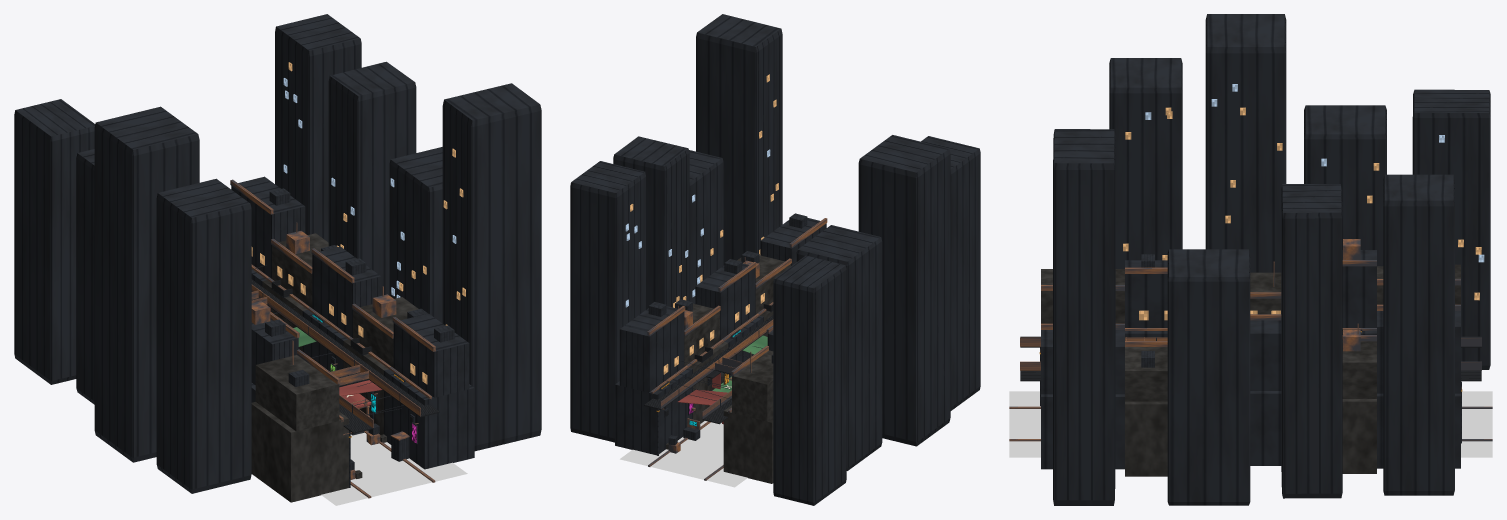
File: Hesperus_Market2_Street_gallery.glb
The picture shows the model from 3 angles, left to right: view 1: azimuth 30°, elevation 25°; view 2: azimuth 150°, elevation 25°; view 3: azimuth 270°, elevation 25°; orthographic projection. The views are drawn at different scales.
Visible parts, largest first — view 1: Tower_7, Tower_1, Tower_3, Tower_8, Tower_9, Tower_6, Tower_5, Fc-1_0_MassA, Fc1_1_MassA, Tower_2, Fc-1_0_MassB, Fc1_1_MassB (+10 smaller); view 2: Tower_3, Tower_8, Tower_7, Tower_6, Tower_2, Tower_1, Tower_9, Fc1_5_MassB, Tower_5, Fc1_5_MassA, Fc-1_4_MassA, Fc1_3_MassB (+10 smaller); view 3: Tower_7, Tower_6, Tower_5, Tower_3, Tower_9, Tower_1, Tower_8, Tower_2, GAL_Paver_Floor, Fc1_2_MassA, Fc1_4_MassA, Fc-1_1_MassB (+12 smaller).
Part boxes in pixels (x1=…): Tower_7: x1=442, y1=83, x2=541, y2=451; Tower_1: x1=156, y1=178, x2=251, y2=493; Tower_3: x1=94, y1=106, x2=199, y2=462; Tower_8: x1=14, y1=99, x2=95, y2=384; Tower_9: x1=328, y1=61, x2=416, y2=295; Tower_6: x1=275, y1=14, x2=361, y2=242; Tower_5: x1=389, y1=147, x2=442, y2=323; Fc-1_0_MassA: x1=251, y1=402, x2=348, y2=502; Fc1_1_MassA: x1=384, y1=369, x2=474, y2=469; Tower_2: x1=76, y1=149, x2=94, y2=404; Fc-1_0_MassB: x1=255, y1=355, x2=339, y2=431; Fc1_1_MassB: x1=393, y1=313, x2=469, y2=397; Tower_3: x1=858, y1=135, x2=950, y2=446; Tower_8: x1=773, y1=255, x2=846, y2=505; Tower_7: x1=696, y1=14, x2=782, y2=265; Tower_6: x1=570, y1=161, x2=645, y2=442; Tower_2: x1=796, y1=225, x2=882, y2=470; Tower_1: x1=921, y1=136, x2=980, y2=410; Tower_9: x1=613, y1=136, x2=689, y2=309; Fc1_5_MassB: x1=619, y1=306, x2=684, y2=392; Tower_5: x1=689, y1=150, x2=723, y2=303; Fc1_5_MassA: x1=615, y1=368, x2=692, y2=455; Fc-1_4_MassA: x1=723, y1=405, x2=773, y2=483; Fc1_3_MassB: x1=695, y1=263, x2=755, y2=340; Tower_7: x1=1053, y1=129, x2=1115, y2=505; Tower_6: x1=1383, y1=174, x2=1454, y2=495; Tower_5: x1=1167, y1=249, x2=1250, y2=505; Tower_3: x1=1205, y1=14, x2=1286, y2=272; Tower_9: x1=1281, y1=184, x2=1342, y2=498; Tower_1: x1=1109, y1=58, x2=1182, y2=268; Tower_8: x1=1412, y1=89, x2=1490, y2=369; Tower_2: x1=1304, y1=105, x2=1386, y2=266; GAL_Paver_Floor: x1=1009, y1=391, x2=1492, y2=457; Fc1_2_MassA: x1=1125, y1=401, x2=1167, y2=476; Fc1_4_MassA: x1=1342, y1=399, x2=1376, y2=473; Fc-1_1_MassB: x1=1125, y1=260, x2=1167, y2=327.
Size of what is drawn, in the model's own units: 38.21 by 36 by 46.
16 materials, 12 textured.
